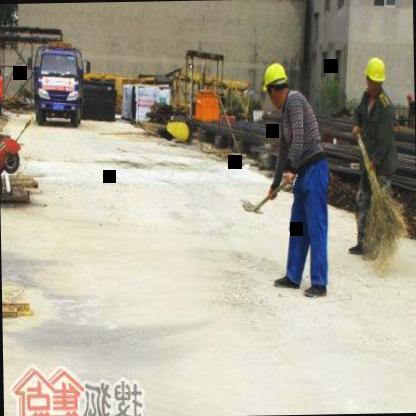helmet: (260, 59, 290, 107), (362, 53, 387, 96)
